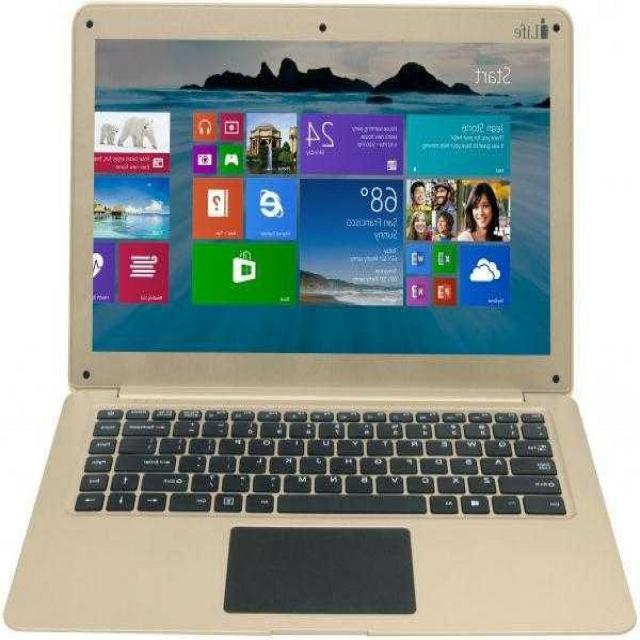laptop: (8, 28, 612, 628)
